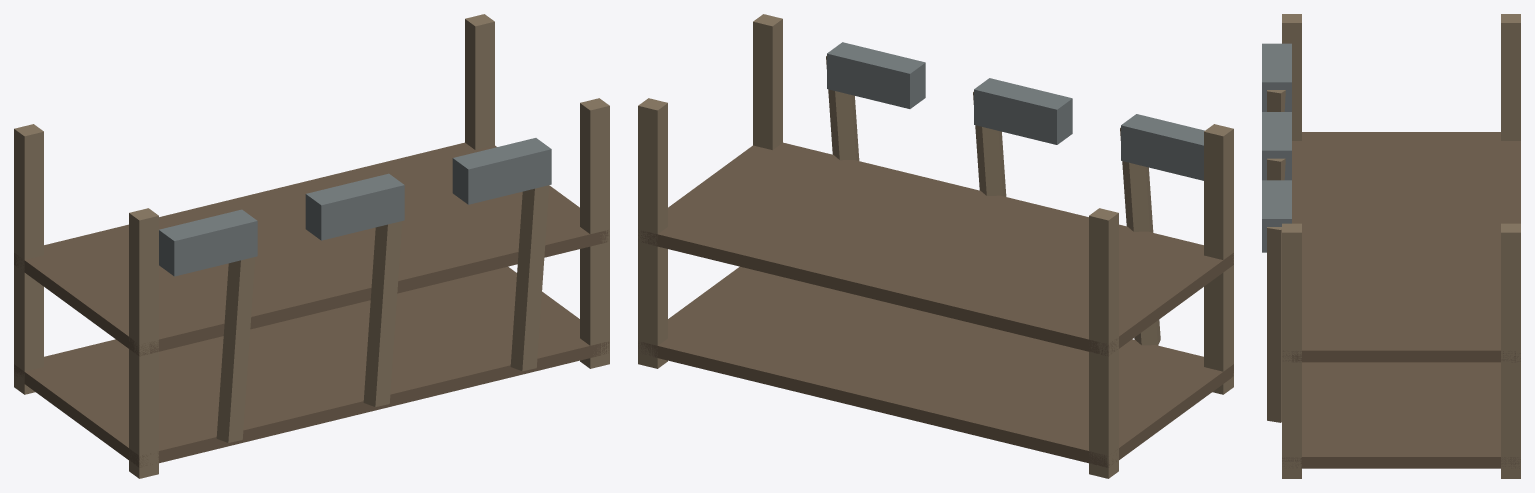
File: axe_rack.glb
The picture shows the model from 3 angles, left to right: view 1: azimuth 30°, elevation 25°; view 2: azimuth 150°, elevation 25°; view 3: azimuth 270°, elevation 25°; orthographic projection. The views are drawn at different scales.
Parts seen in each view (by area): view 1: axe_rack; view 2: axe_rack; view 3: axe_rack.
Boxes of the visible parts, x1=… form: axe_rack: x1=14, y1=14, x2=609, y2=478; axe_rack: x1=638, y1=14, x2=1233, y2=478; axe_rack: x1=1262, y1=14, x2=1520, y2=478.
Bounding box in the file's own units: 2 × 1.05 × 1.
